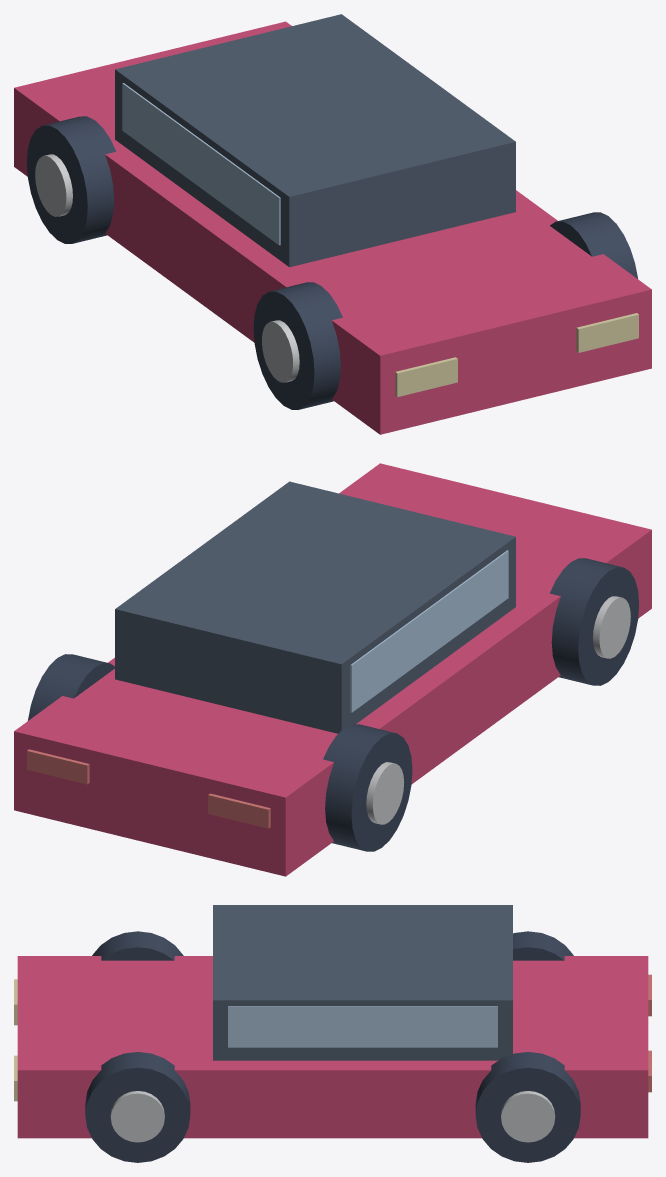
File: car.glb
The picture shows the model from 3 angles, top to bottom: view 1: azimuth 30°, elevation 25°; view 2: azimuth 150°, elevation 25°; view 3: azimuth 270°, elevation 25°; orthographic projection. The views are drawn at different scales.
Bounding box in the file's own units: 2.24 × 1.04 × 4.25.
